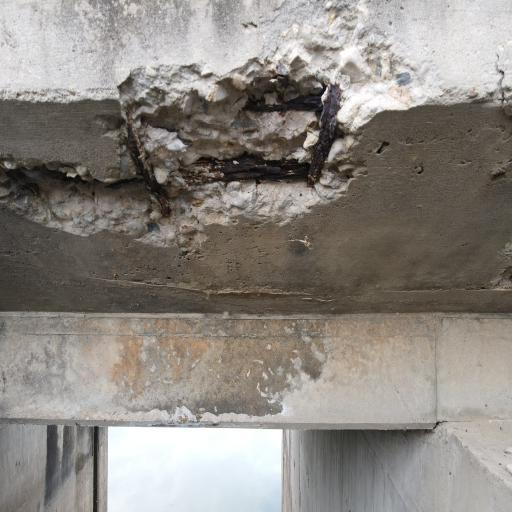exposed_rebar: (126, 112, 170, 217), (182, 155, 309, 185), (307, 84, 343, 187), (244, 94, 323, 112)
spalling: (0, 2, 428, 252)
